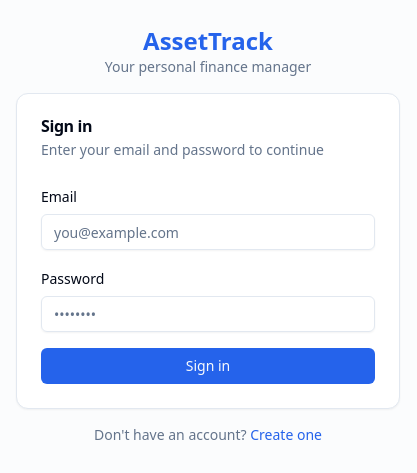
Test: Login page › on 401 API response, shows invalid credentials error
Type "wrong@example.com" into the field labelled "Email" at (208, 232), box [41, 214, 375, 250]
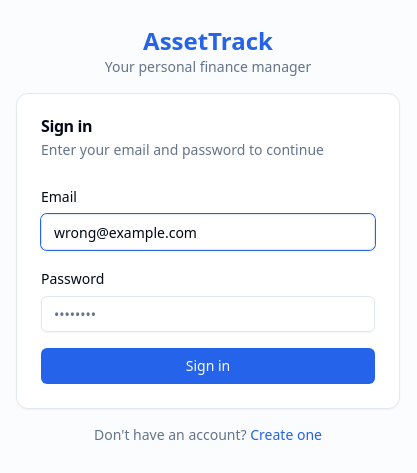
Type "badPass123" into the password field labelled "Password" at (208, 314), box [41, 296, 375, 332]
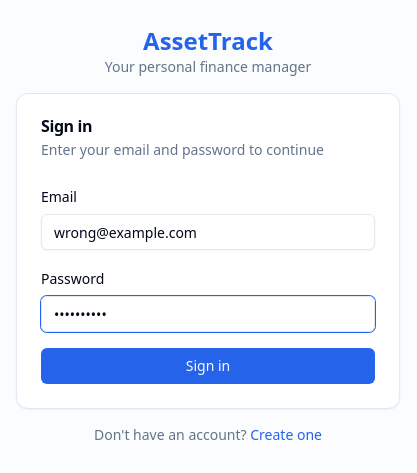
Click the button "Sign in" at (208, 366), box [41, 348, 375, 384]
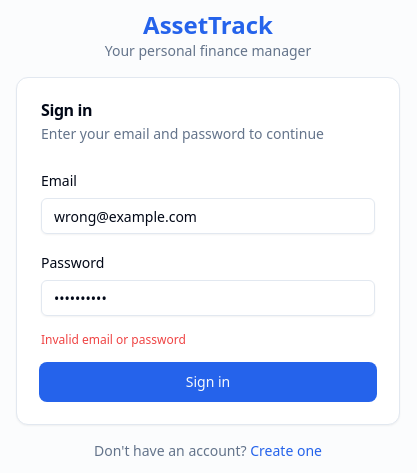
Expected: the text "Invalid email or password" is shown, [41, 331, 186, 348]
